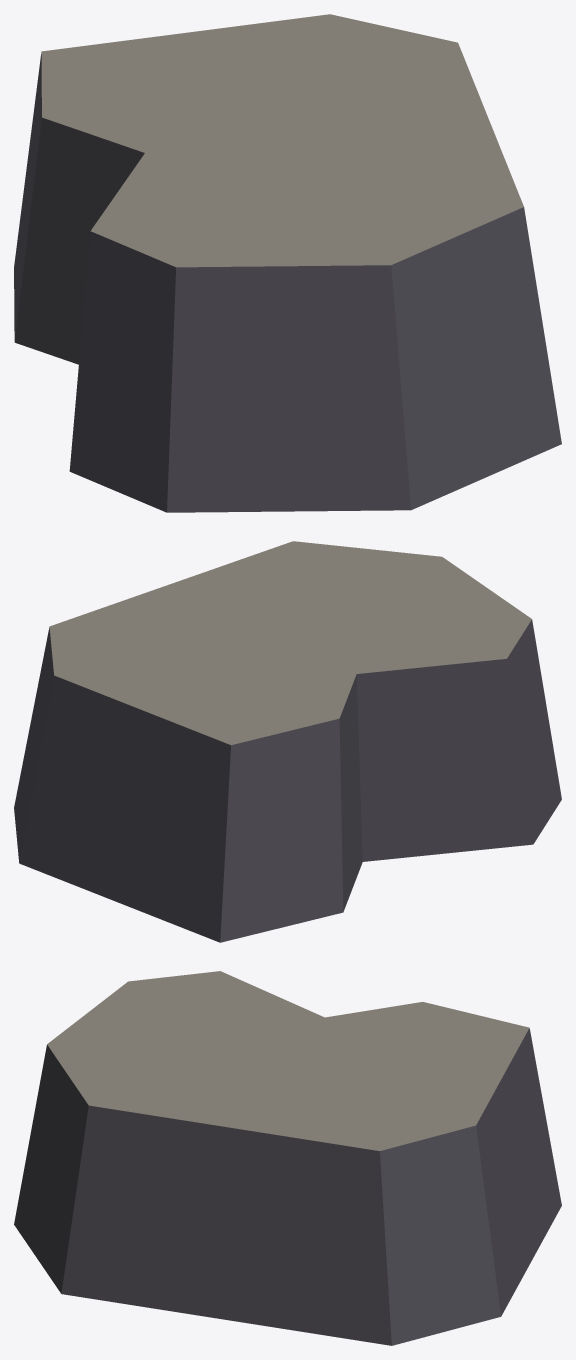
File: TB_Env_RockI.FBX
The picture shows the model from 3 angles, top to bottom: view 1: azimuth 30°, elevation 25°; view 2: azimuth 150°, elevation 25°; view 3: azimuth 270°, elevation 25°; orthographic projection. The views are drawn at different scales.
Visible parts, largest first — view 1: TB_Env_RockI; view 2: TB_Env_RockI; view 3: TB_Env_RockI.
Boxes of the visible parts, x1,y1,x2,y2 form: TB_Env_RockI: [14, 14, 561, 512]; TB_Env_RockI: [14, 541, 561, 942]; TB_Env_RockI: [14, 971, 561, 1345].
Bounding box in the file's own units: 2.02 × 0.8333 × 2.29.
